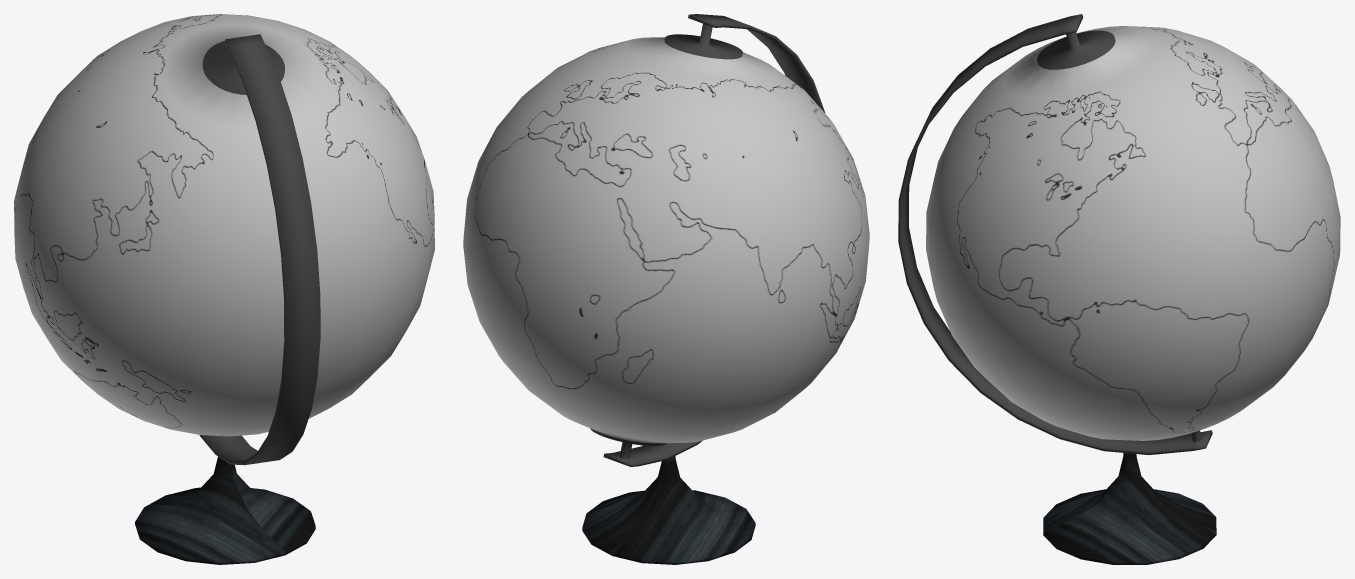
The model's file is globe.gltf.
3 renders of one model, left to right at view 1: azimuth 30°, elevation 25°; view 2: azimuth 150°, elevation 25°; view 3: azimuth 270°, elevation 25°, orthographic. The views are drawn at different scales.
Visible parts, largest first — view 1: Globe2; view 2: Globe2; view 3: Globe2.
Boxes of the visible parts, left/top/right/bottom form: Globe2: left=14, top=14, right=434, bottom=564; Globe2: left=463, top=14, right=869, bottom=564; Globe2: left=898, top=14, right=1340, bottom=564.
Size of the model in its own units: 0.2111 by 0.2816 by 0.2247.
Materials: 1 (1 with a texture image).
